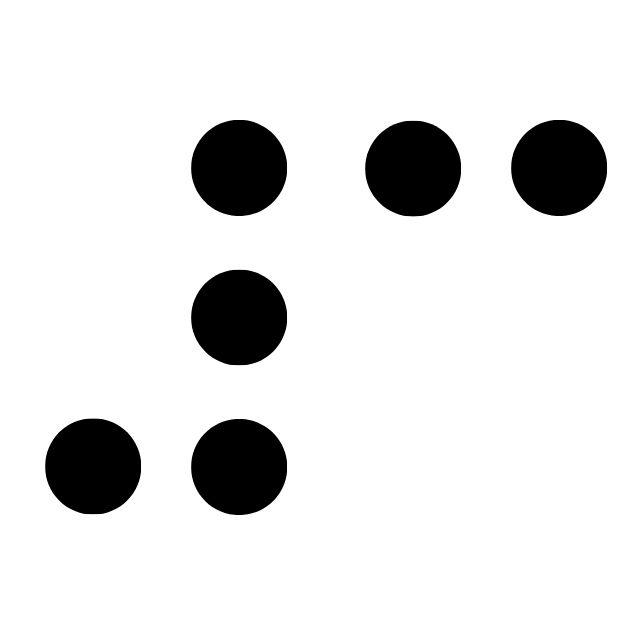3: (364, 119, 606, 516)
number: (45, 119, 288, 516)
